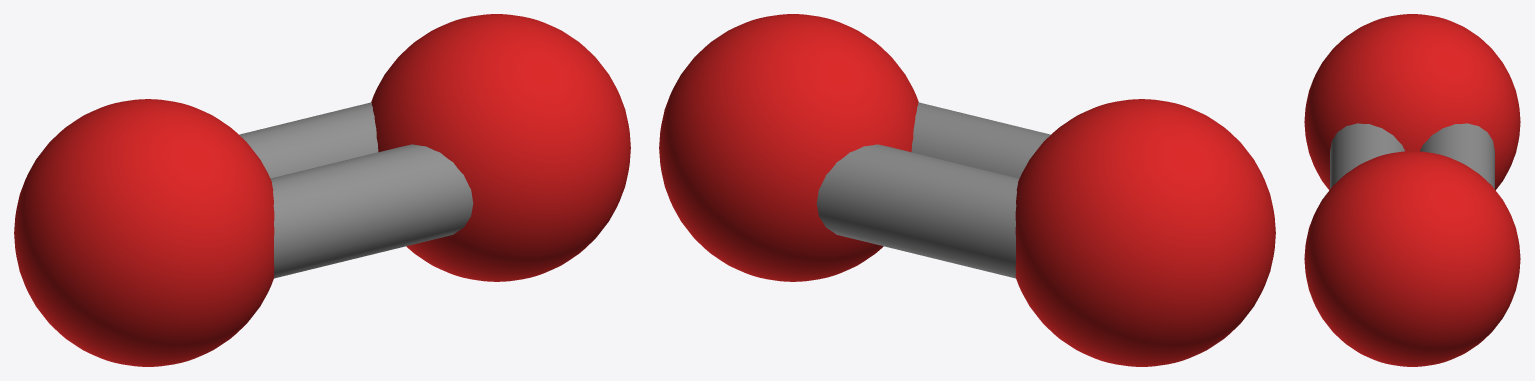
Rendered from sauerstoff.glb.
The picture shows the model from 3 angles, left to right: view 1: azimuth 30°, elevation 25°; view 2: azimuth 150°, elevation 25°; view 3: azimuth 270°, elevation 25°; orthographic projection. The views are drawn at different scales.
Visible parts, largest first — view 1: O_1, O_0, B0b, B0a; view 2: O_1, O_0, B0a, B0b; view 3: O_0, O_1, B0a, B0b.
Boxes of the visible parts, x1,y1,x2,y2 form: O_1: (14, 99, 274, 366); O_0: (371, 14, 630, 281); B0b: (271, 144, 473, 278); B0a: (239, 102, 378, 178); O_1: (1015, 99, 1275, 366); O_0: (659, 14, 918, 281); B0a: (816, 144, 1018, 278); B0b: (911, 102, 1050, 178); O_0: (1304, 151, 1520, 366); O_1: (1304, 14, 1520, 190); B0a: (1420, 123, 1494, 188); B0b: (1330, 123, 1404, 188).
Size of the model in its own units: 1.9 by 0.76 by 0.76.
